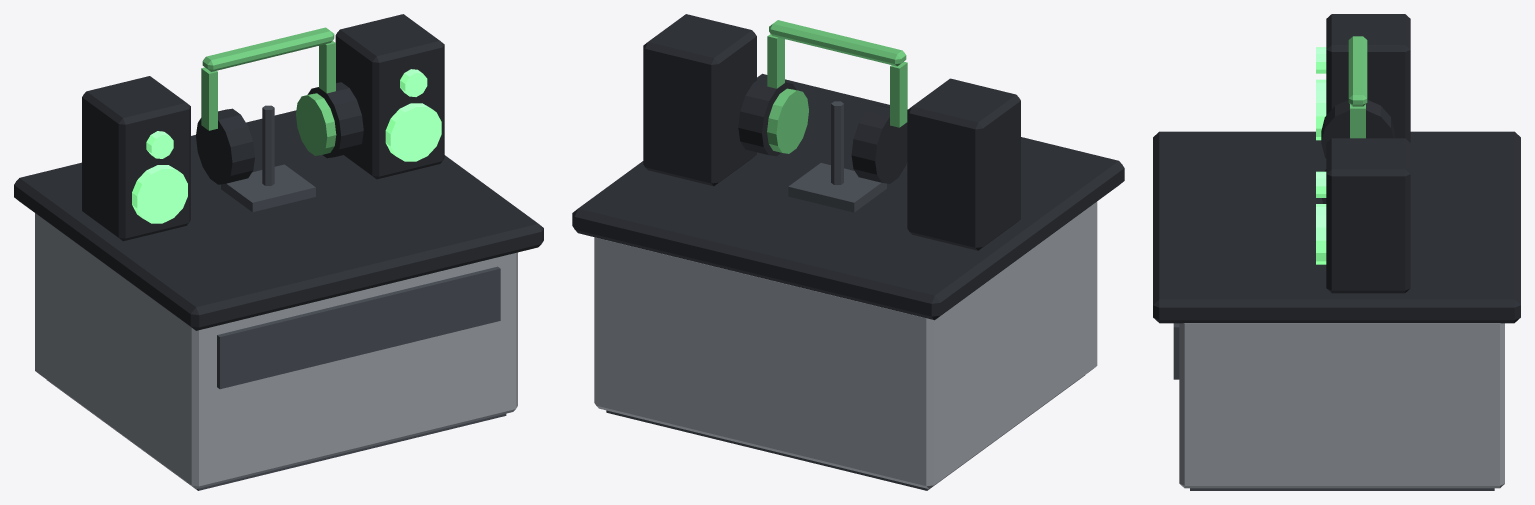
Rendered from headphones_p0_3.glb.
3 renders of one model, left to right at view 1: azimuth 30°, elevation 25°; view 2: azimuth 150°, elevation 25°; view 3: azimuth 270°, elevation 25°, orthographic. The views are drawn at different scales.
Parts seen in each view (by area): view 1: headphones_p0_3_mesh_Desk, headphones_p0_3_mesh; view 2: headphones_p0_3_mesh_Desk, headphones_p0_3_mesh; view 3: headphones_p0_3_mesh_Desk, headphones_p0_3_mesh.
Part boxes in pixels (x1,y1,x2,y2): headphones_p0_3_mesh_Desk: [14, 110, 543, 490]; headphones_p0_3_mesh: [82, 14, 444, 241]; headphones_p0_3_mesh_Desk: [572, 73, 1124, 490]; headphones_p0_3_mesh: [643, 14, 1020, 250]; headphones_p0_3_mesh_Desk: [1153, 131, 1520, 490]; headphones_p0_3_mesh: [1316, 14, 1410, 293].
Bounding box in the file's own units: 0.78 × 0.735 × 0.7.
